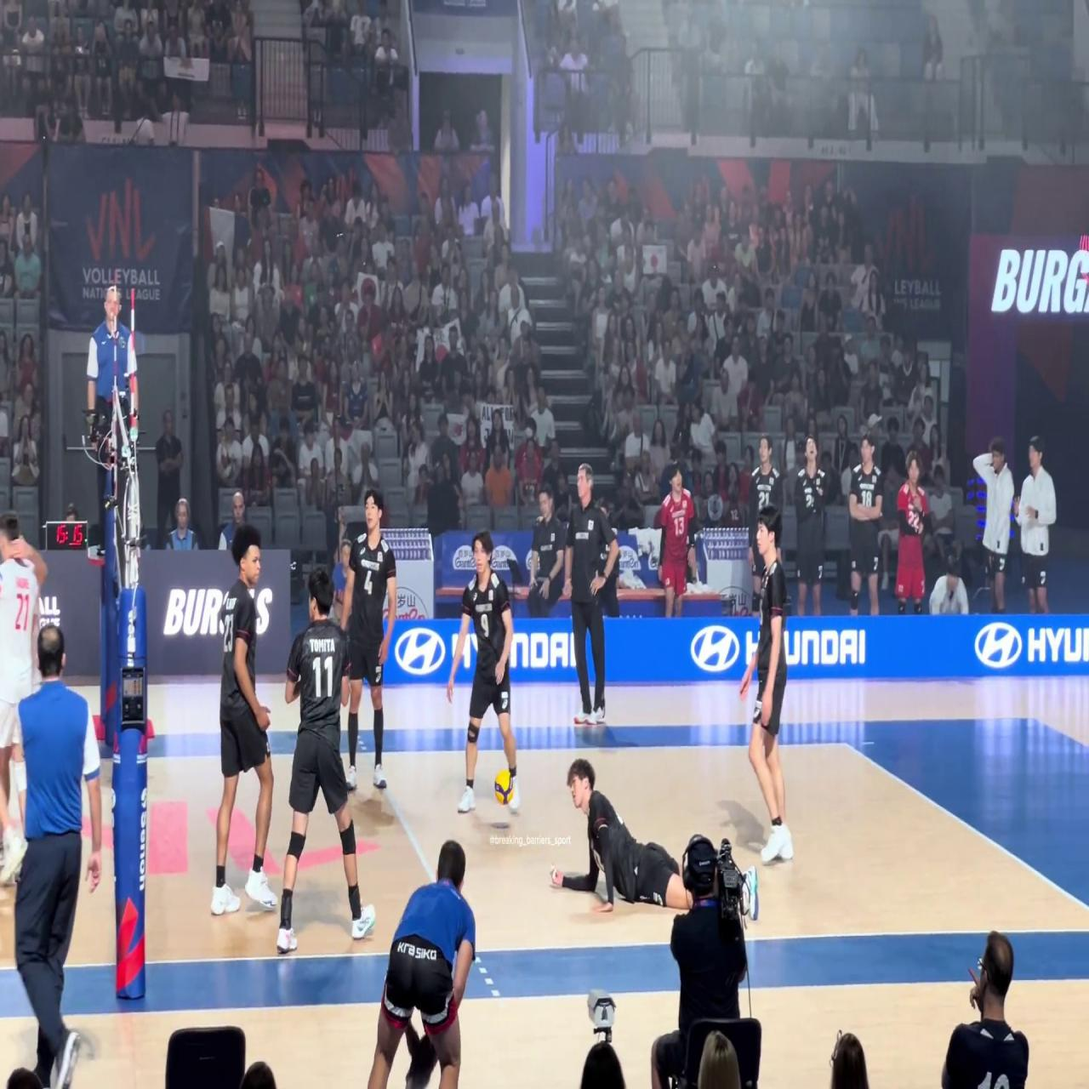ball: (494, 769, 514, 807)
